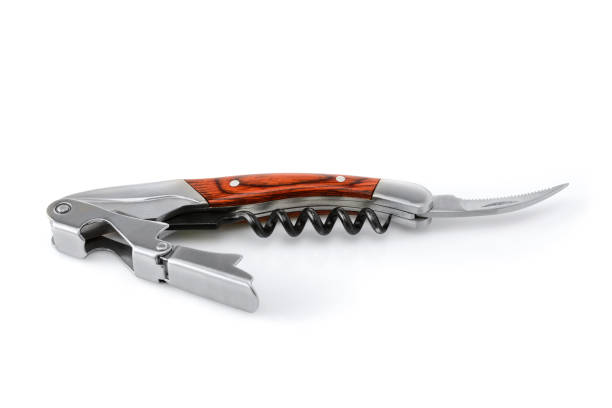knife: (424, 179, 575, 221)
